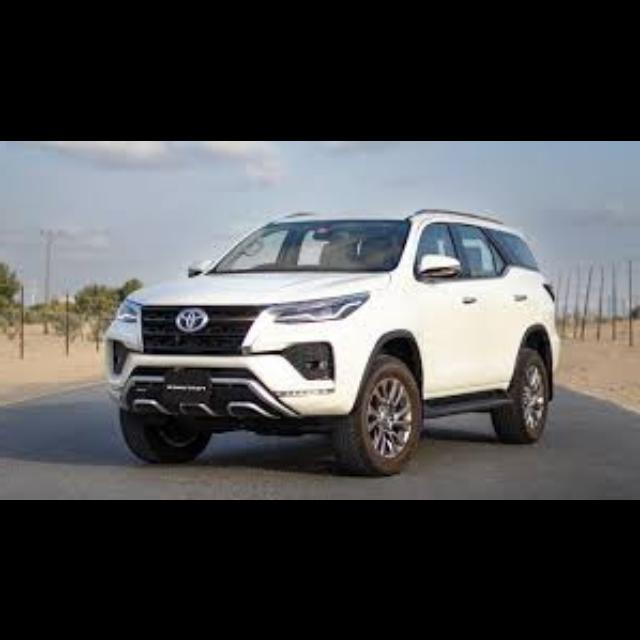number-plate: (160, 365, 218, 412)
vehicles: (90, 202, 572, 476)
